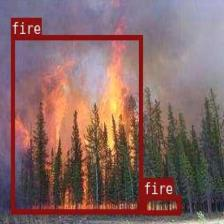fire: (11, 34, 142, 213), (142, 195, 180, 214)
